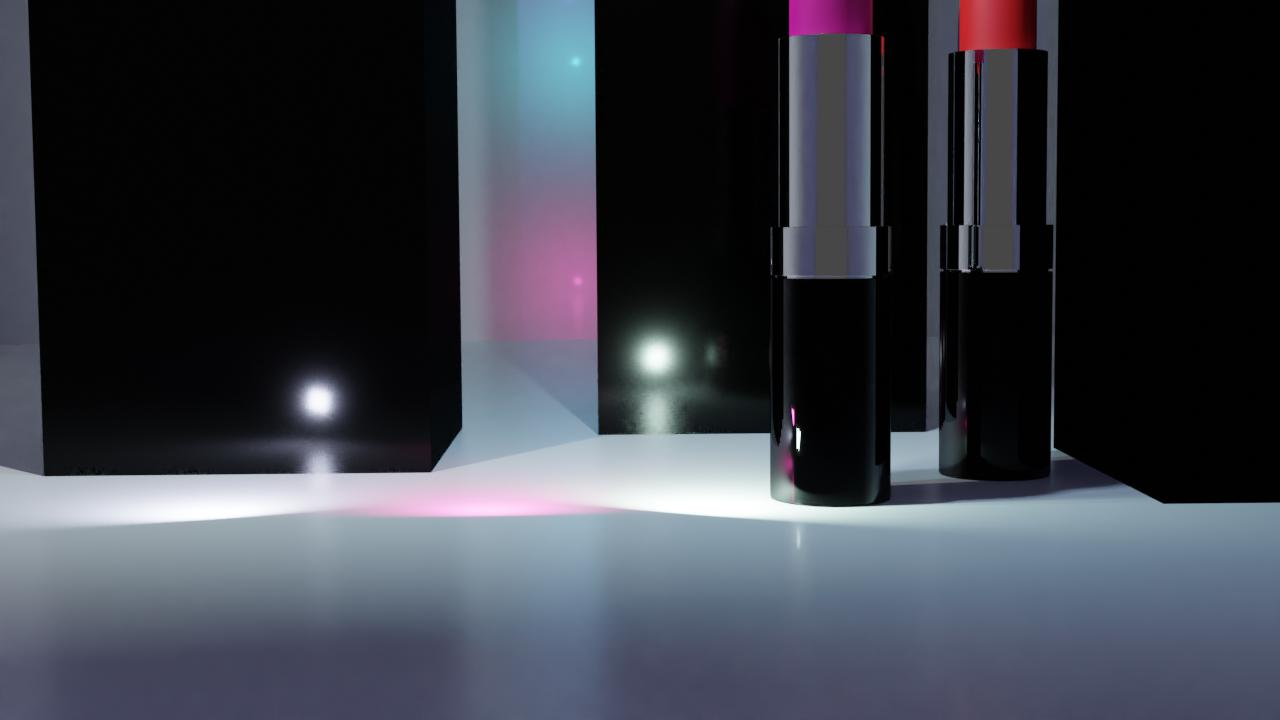CLASSIFIER_NAME: (768, 0, 895, 507), (936, 0, 1056, 481)
